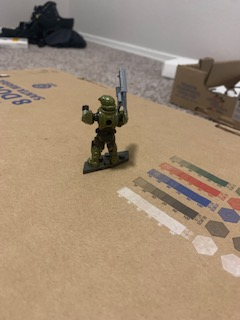soldier: (78, 67, 131, 171)
